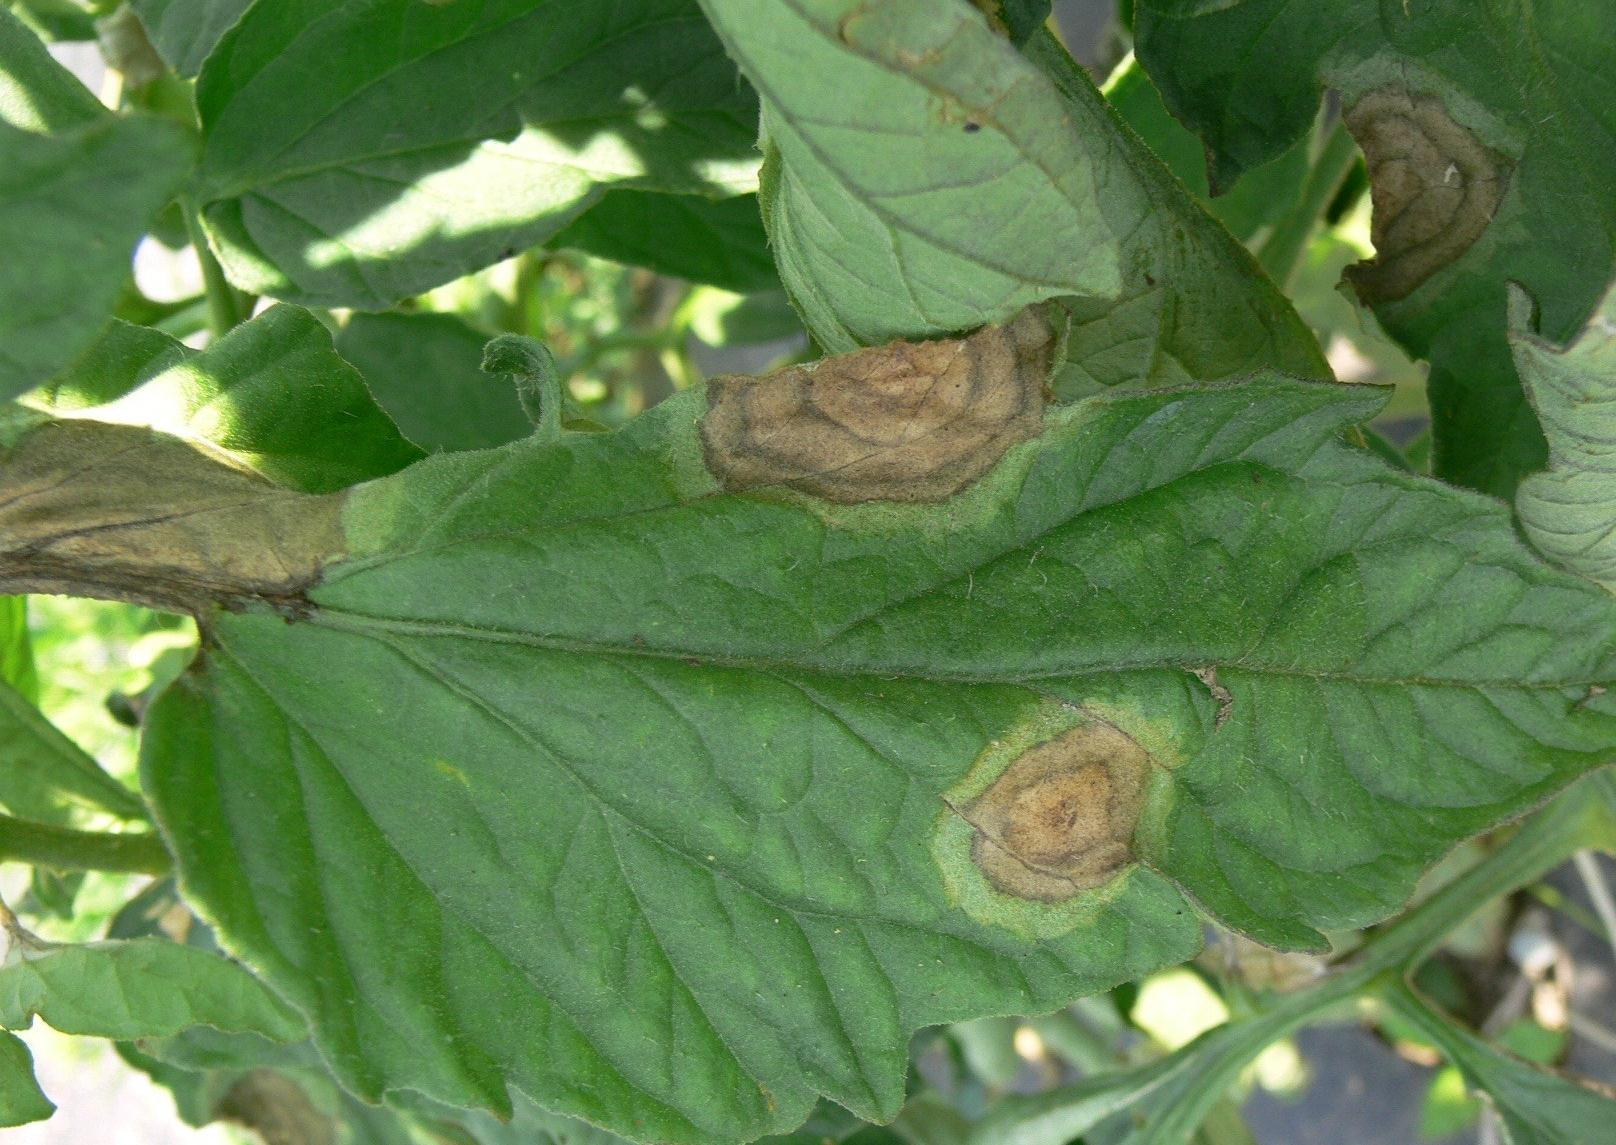Tomato leaf late blight: (17, 297, 1598, 1125)
